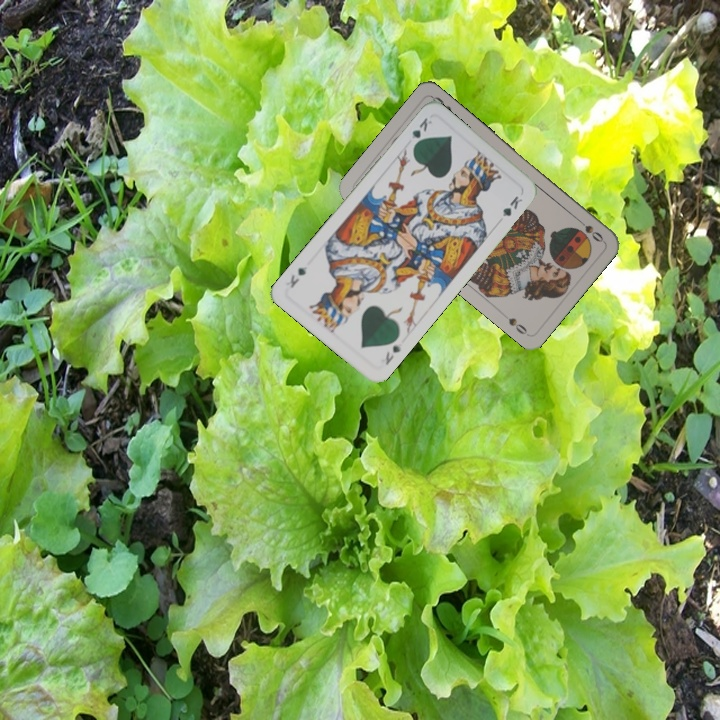GK: (407, 113, 435, 150), (381, 341, 404, 368)
SO: (572, 214, 606, 245)
